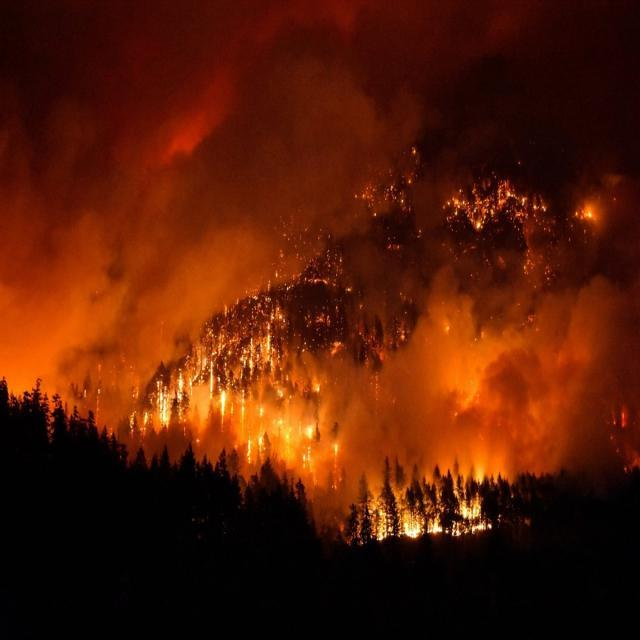Smoke: (1, 0, 490, 457), (345, 242, 640, 486)
